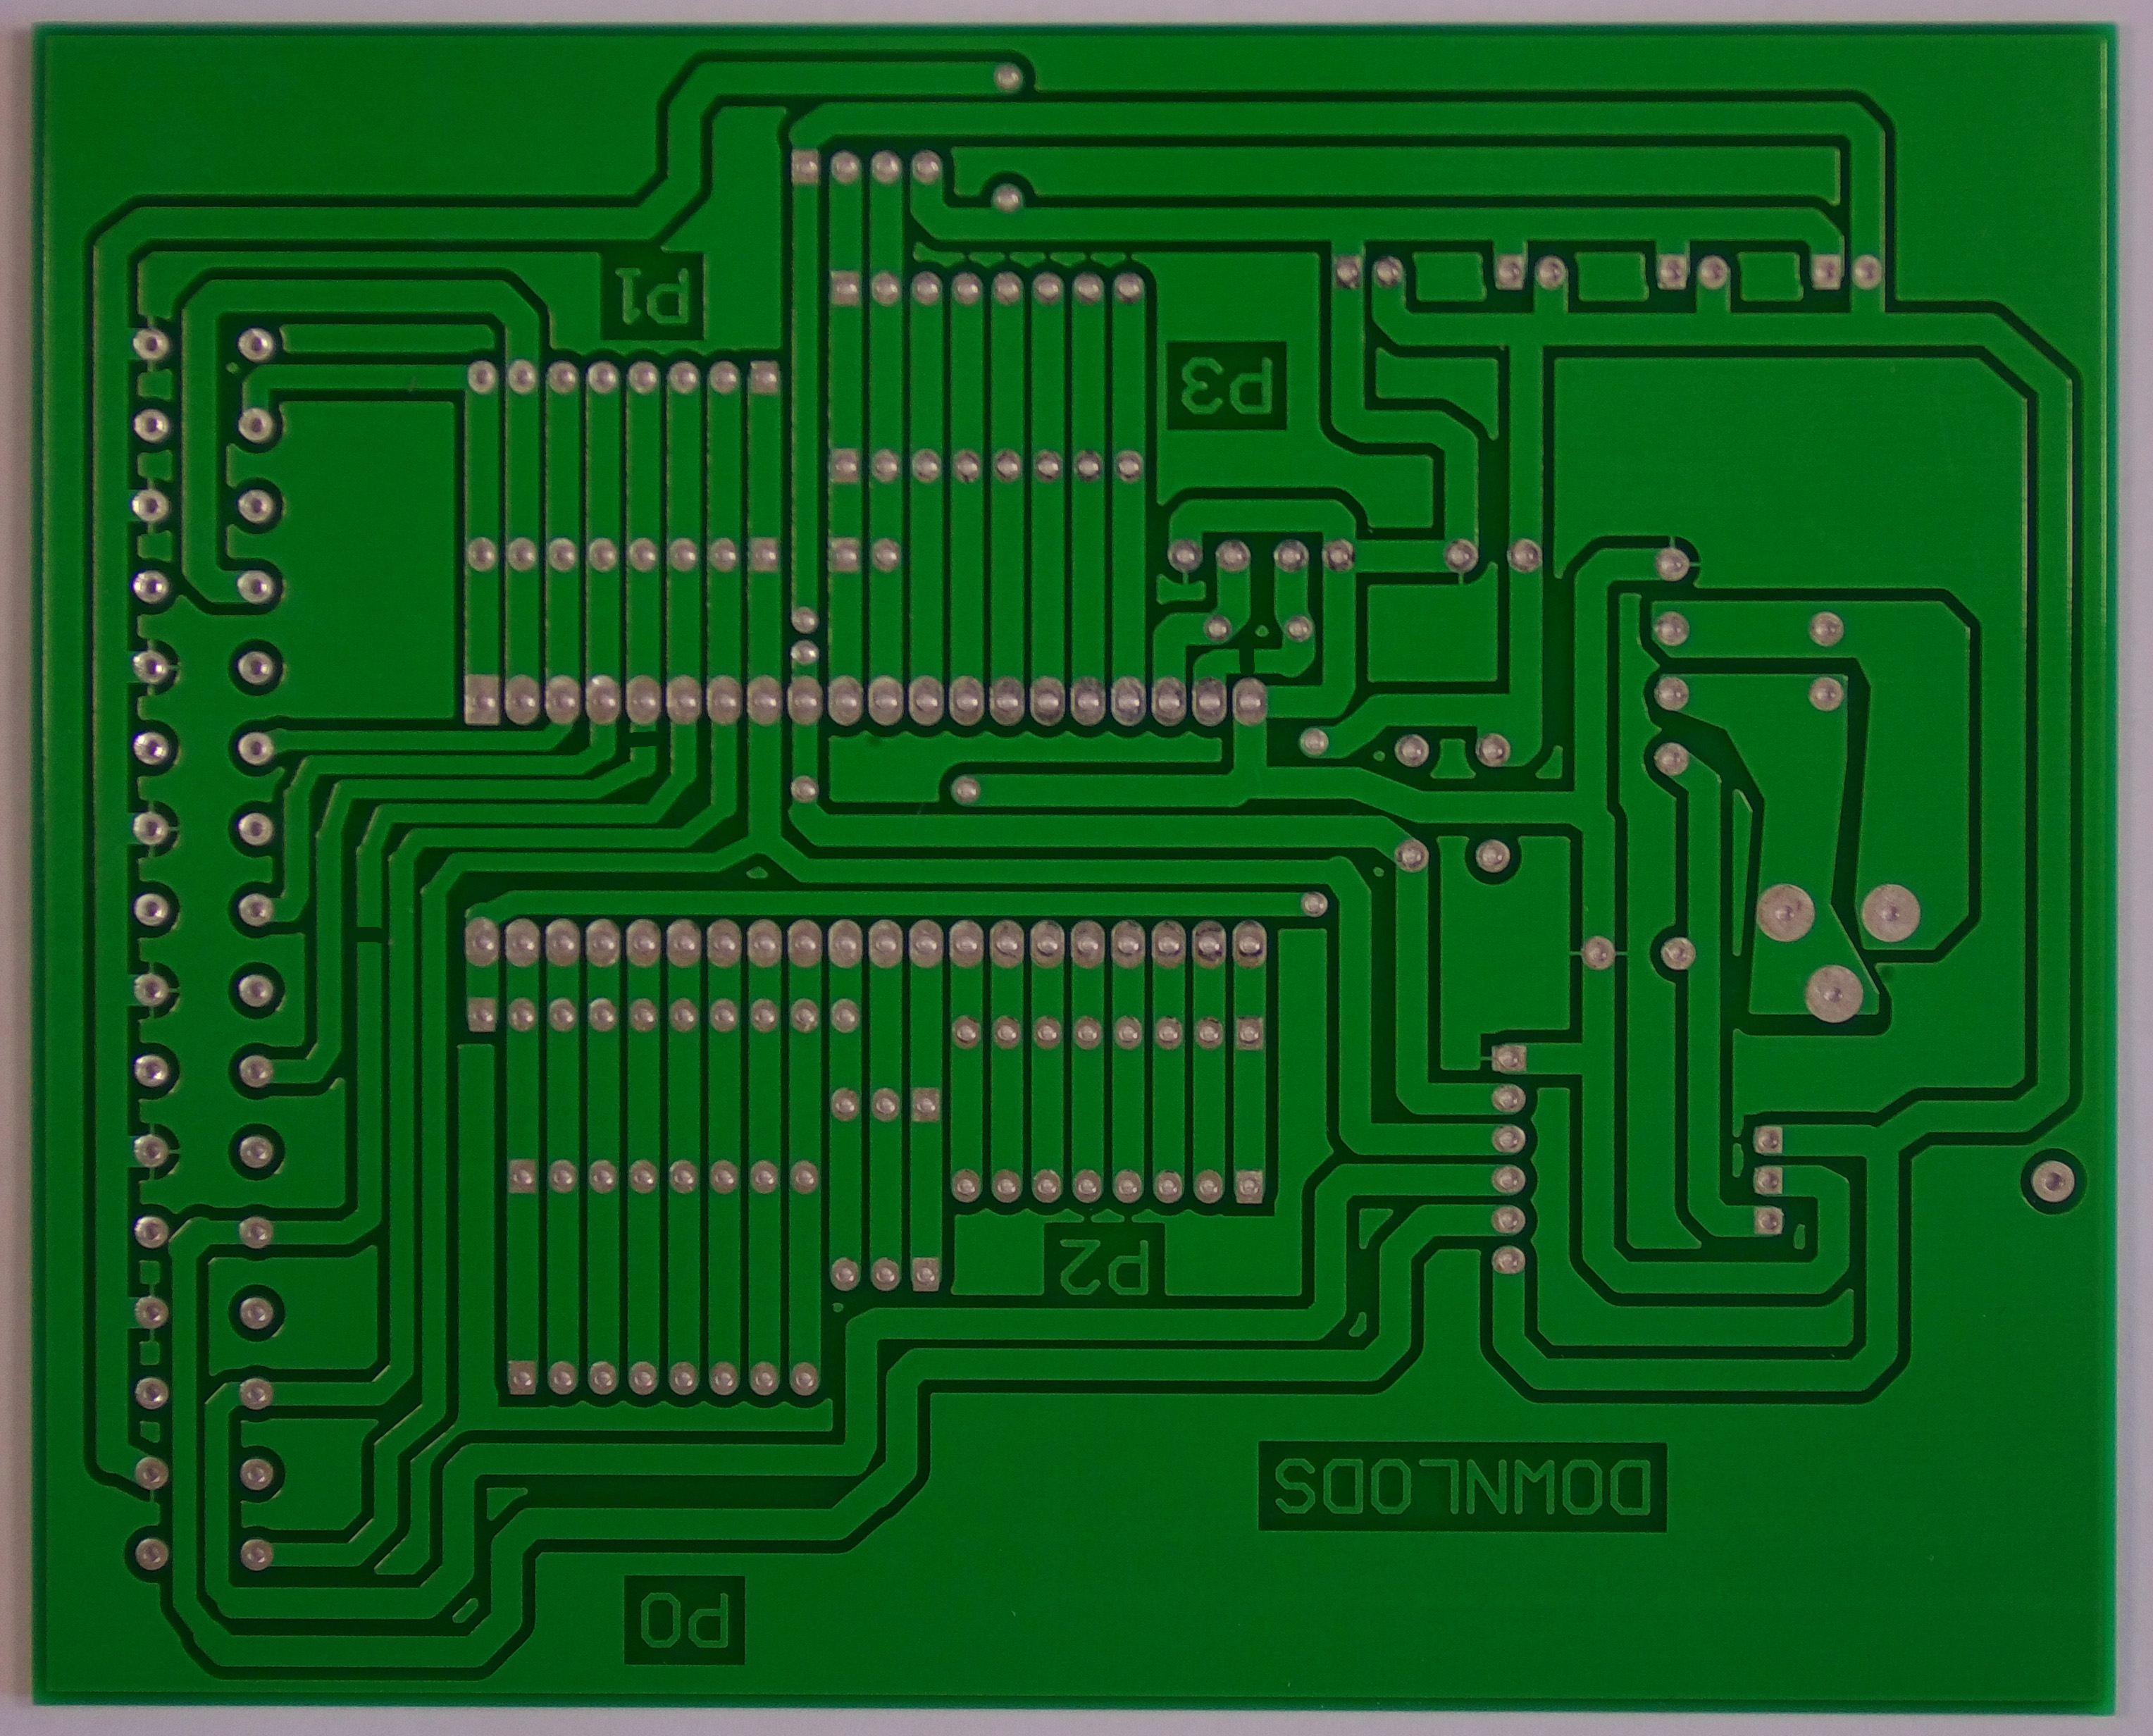open_circuit: (1227, 638, 1266, 678), (349, 915, 390, 952), (624, 724, 665, 755)
